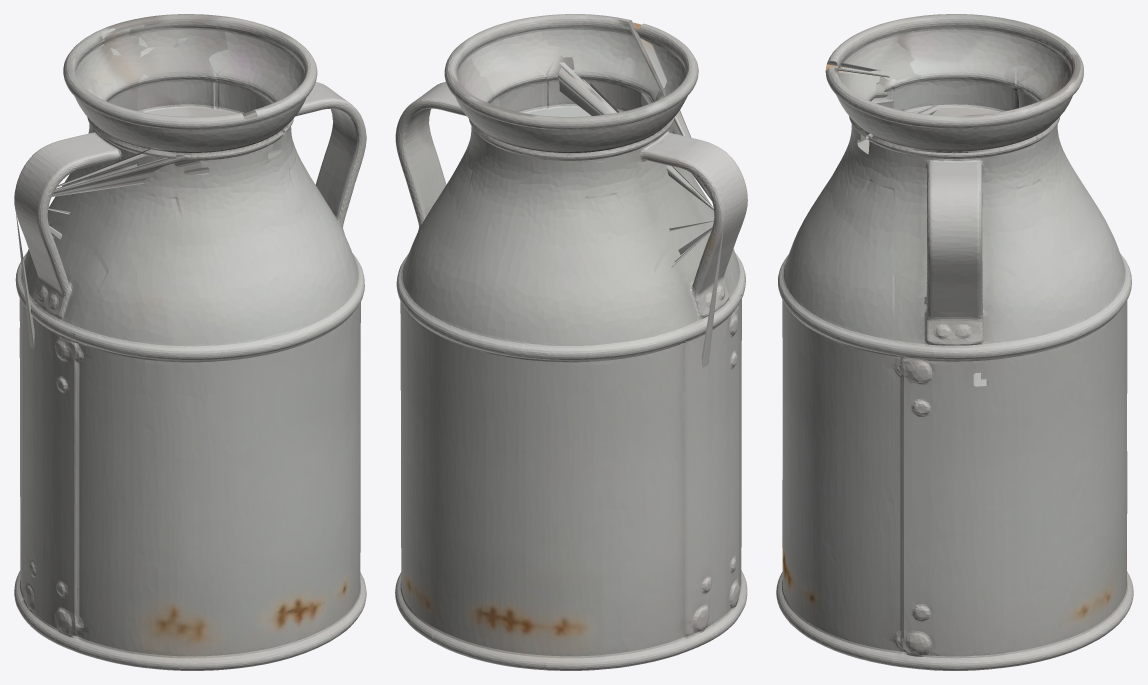
The model's file is garak_wh_can.glb.
The picture shows the model from 3 angles, left to right: view 1: azimuth 30°, elevation 25°; view 2: azimuth 150°, elevation 25°; view 3: azimuth 270°, elevation 25°; orthographic projection.
Visible parts, largest first — view 1: testcan.obj; view 2: testcan.obj; view 3: testcan.obj.
Part boxes in pixels (<box>): testcan.obj: <box>14,14,366,670</box>; testcan.obj: <box>395,14,747,670</box>; testcan.obj: <box>776,14,1133,670</box>.
Size of the model in its own units: 1.27 by 1.97 by 1.2.
1 material, 1 textured.
